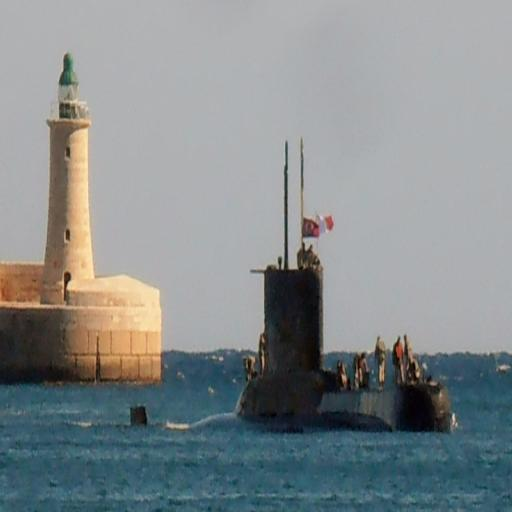submarine: (212, 132, 457, 433)
